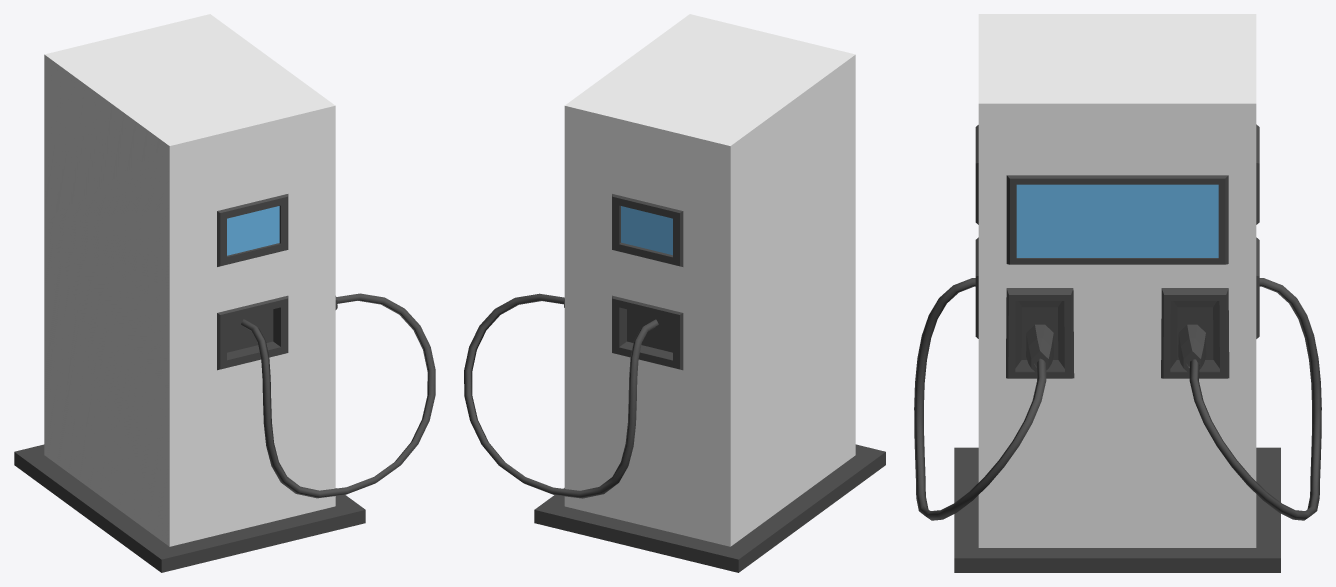
File: Props_Charger.fbx
3 views of the same model, side by side, from view 1: azimuth 30°, elevation 25°; view 2: azimuth 150°, elevation 25°; view 3: azimuth 270°, elevation 25° (orthographic). The views are drawn at different scales.
Parts seen in each view (by area): view 1: Props_Charger; view 2: Props_Charger; view 3: Props_Charger.
Part boxes in pixels (bbox=[...]): Props_Charger: bbox=[14, 14, 435, 572]; Props_Charger: bbox=[464, 14, 885, 572]; Props_Charger: bbox=[914, 14, 1321, 572].
Bounding box in the file's own units: 227 × 310 × 250.
